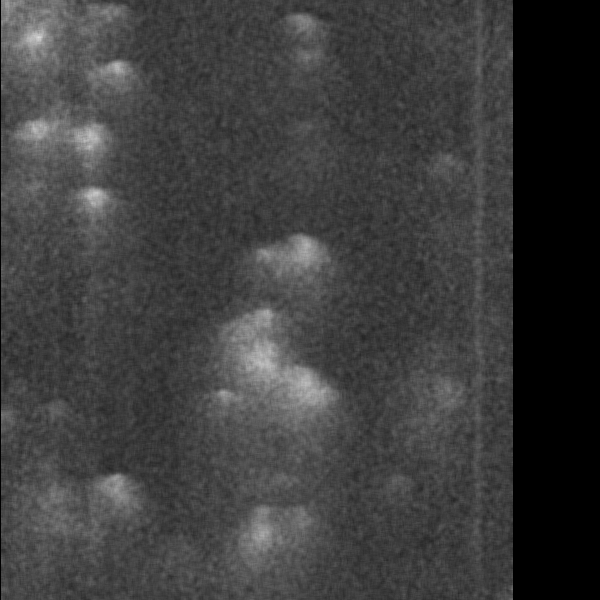spark: (2, 116, 143, 176), (80, 465, 151, 572), (274, 232, 332, 336), (203, 340, 310, 379), (232, 498, 290, 567), (415, 364, 469, 430), (87, 55, 137, 123), (61, 184, 124, 225), (278, 8, 321, 48), (287, 50, 324, 68)
